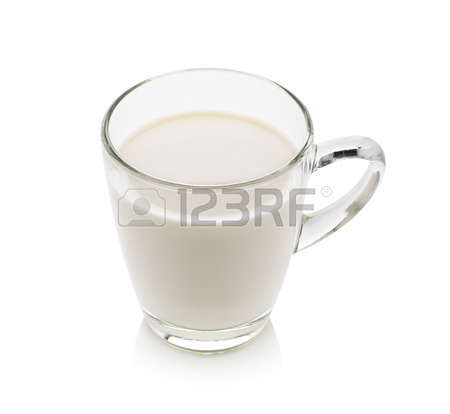glass of milk: (90, 81, 402, 353)
